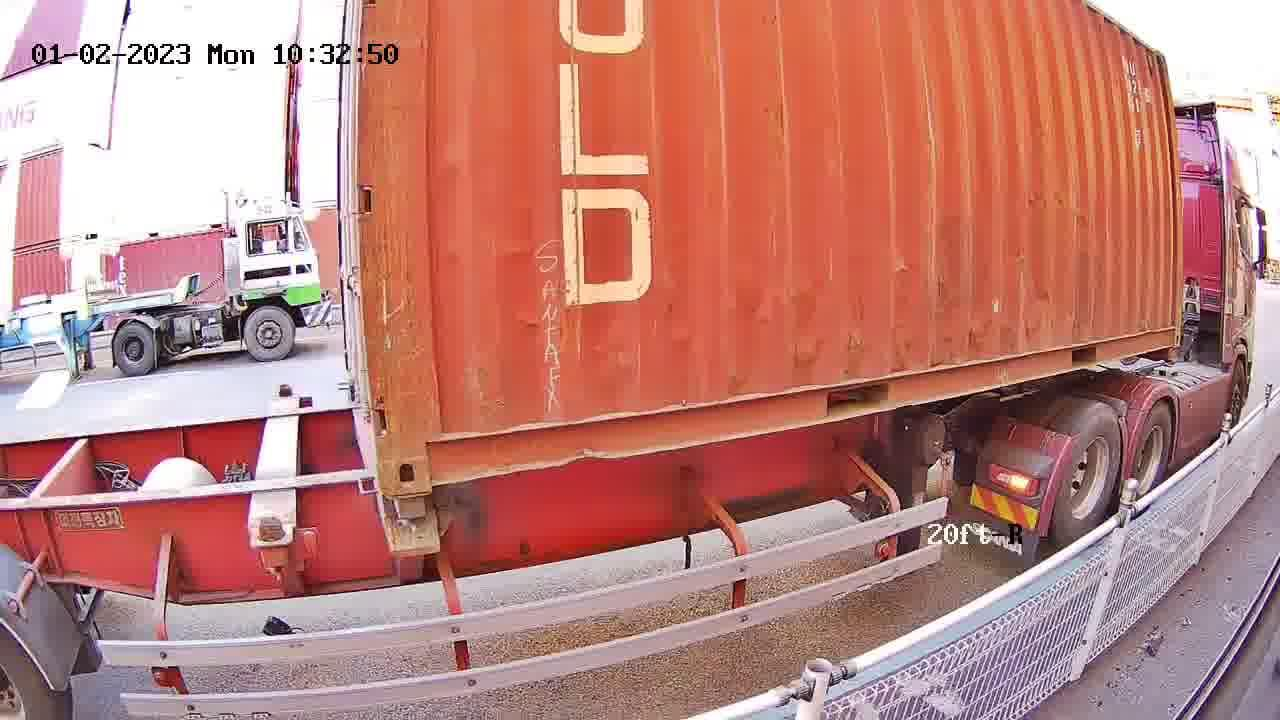Cone: (386, 490, 431, 529)
Hole_L: (373, 403, 475, 497)
Tire: (1055, 406, 1124, 550), (1133, 401, 1173, 501)
